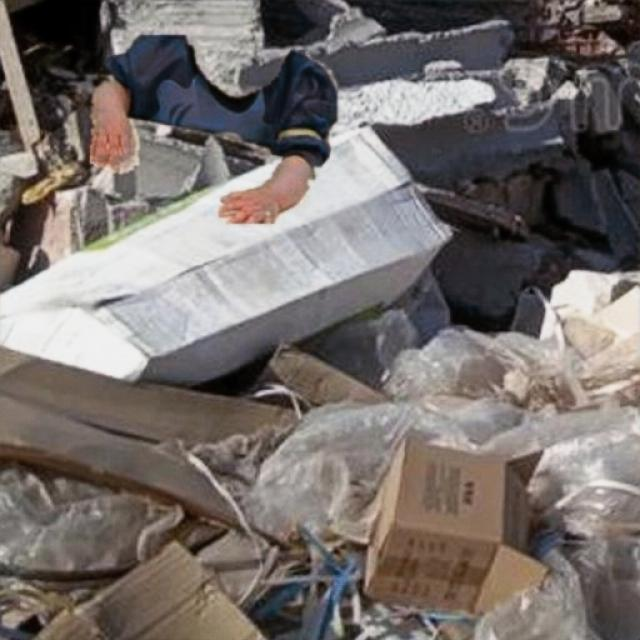Person in Rubble: (90, 35, 336, 223)
